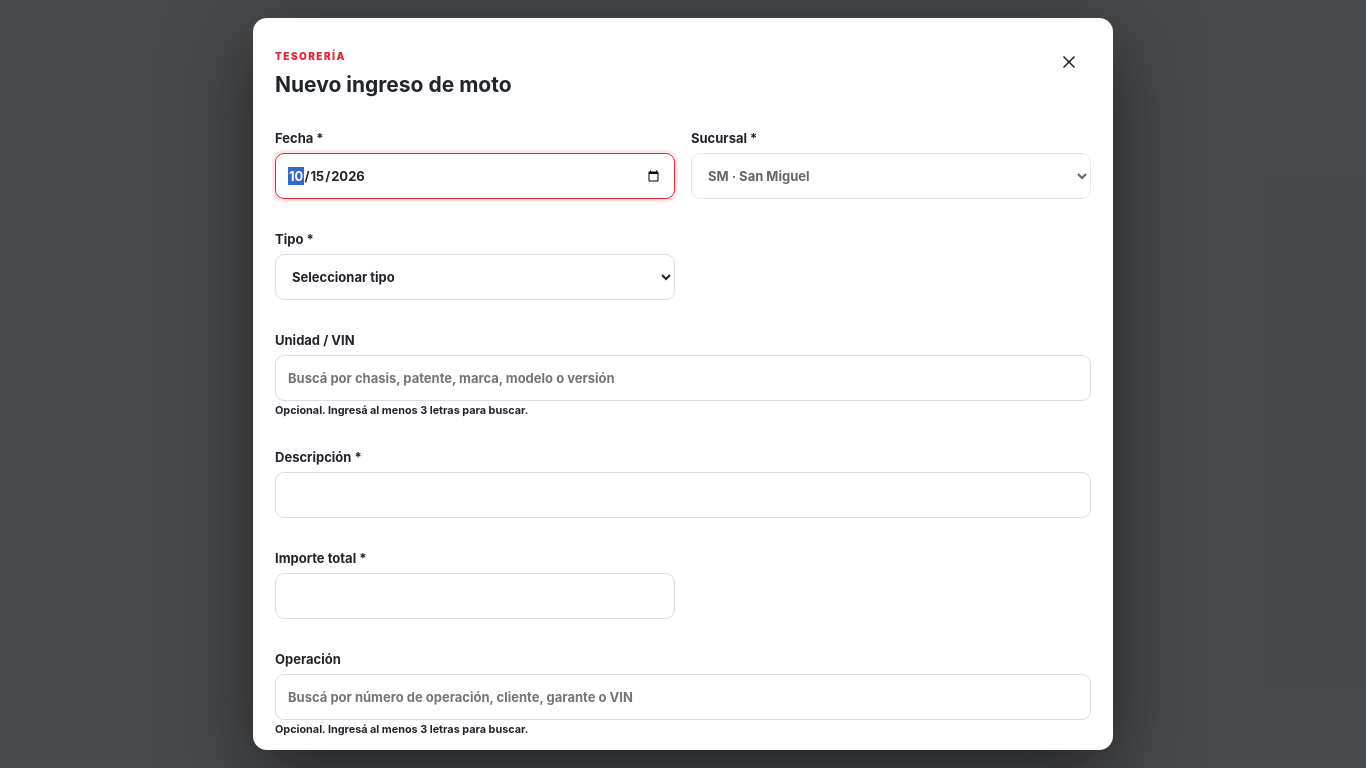
Test case: Alta de ingreso con medio, cobrador y rendición › en dólares sin cuentas en dólares explica qué falta
Select "Seña" in the dropdown labelled "Tipo *" at (475, 277), box [275, 254, 675, 300]
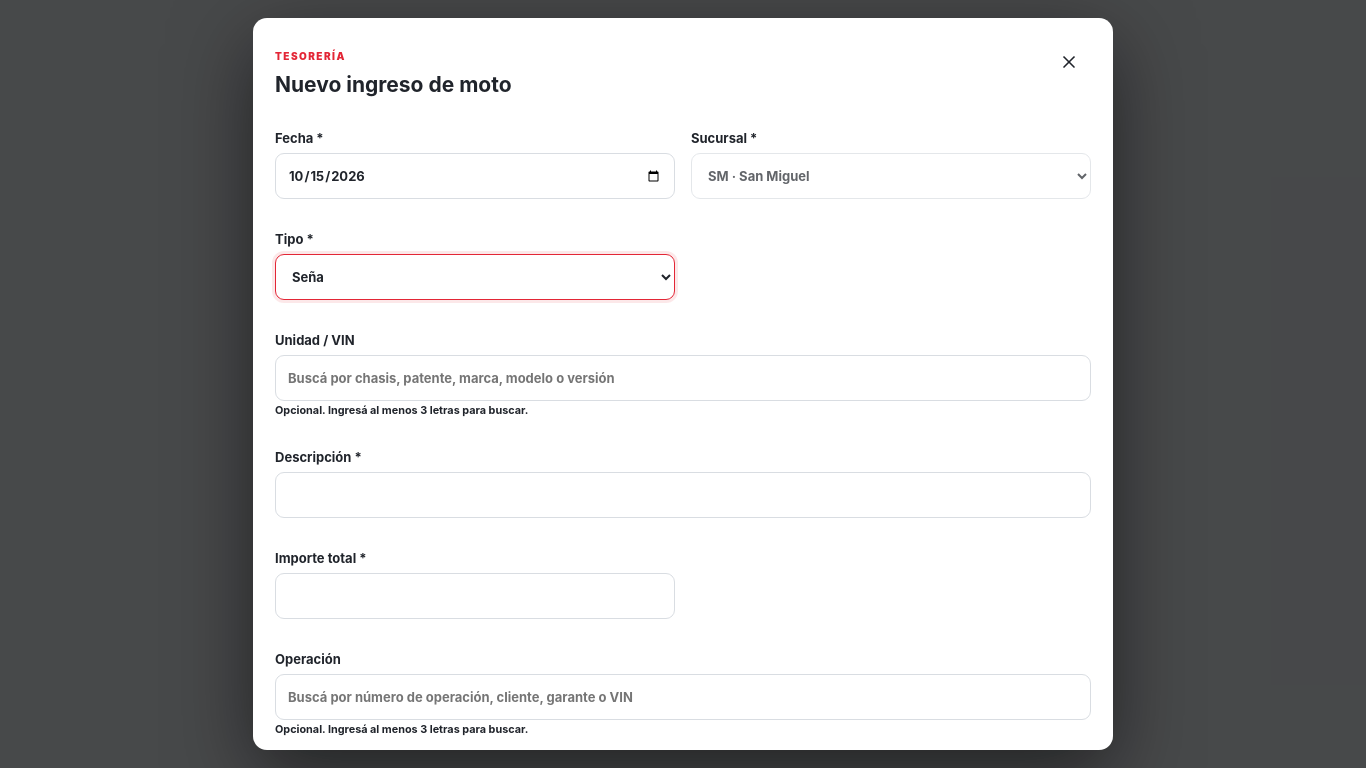
Type "Seña moto" into the field labelled "Descripción *" at (683, 495), box [275, 472, 1091, 518]
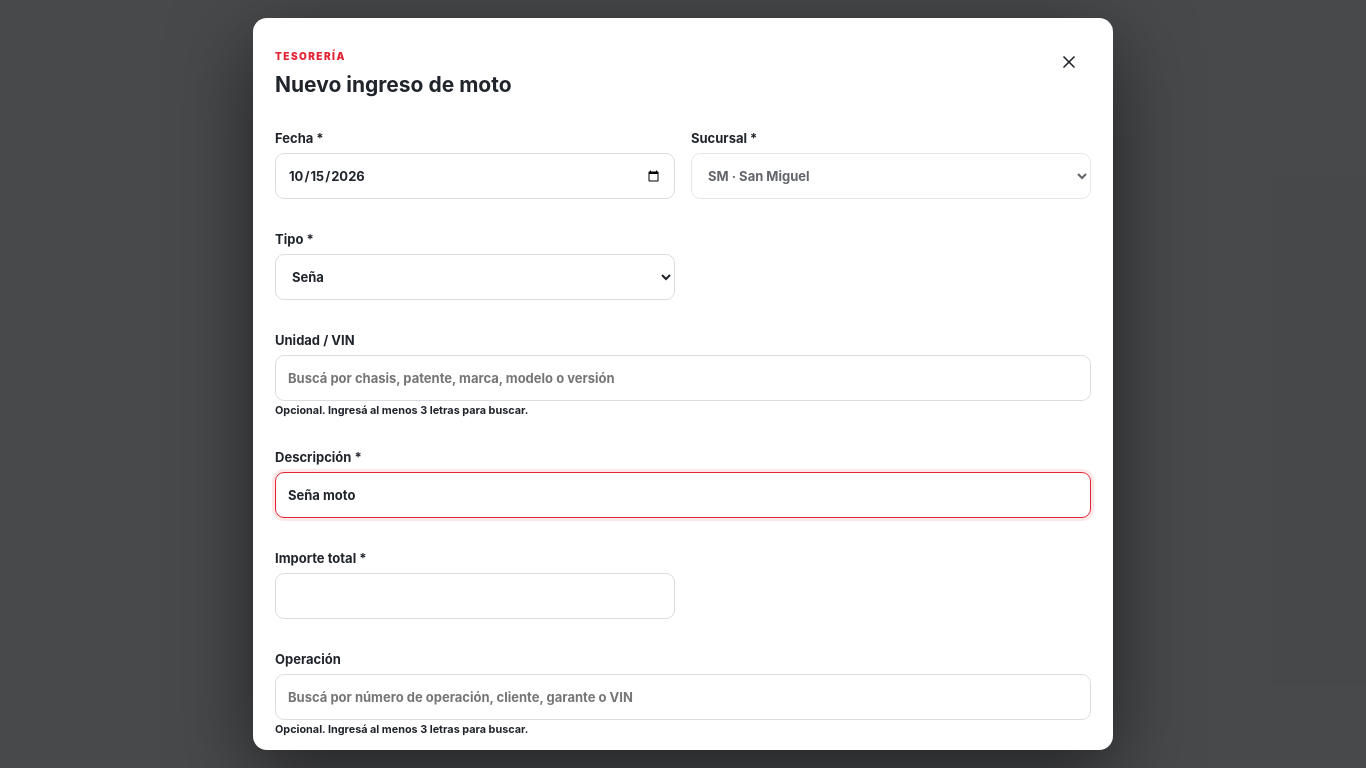
Type "150000" into the number field labelled "Importe total *" at (475, 596), box [275, 573, 675, 619]
(page scrolled)
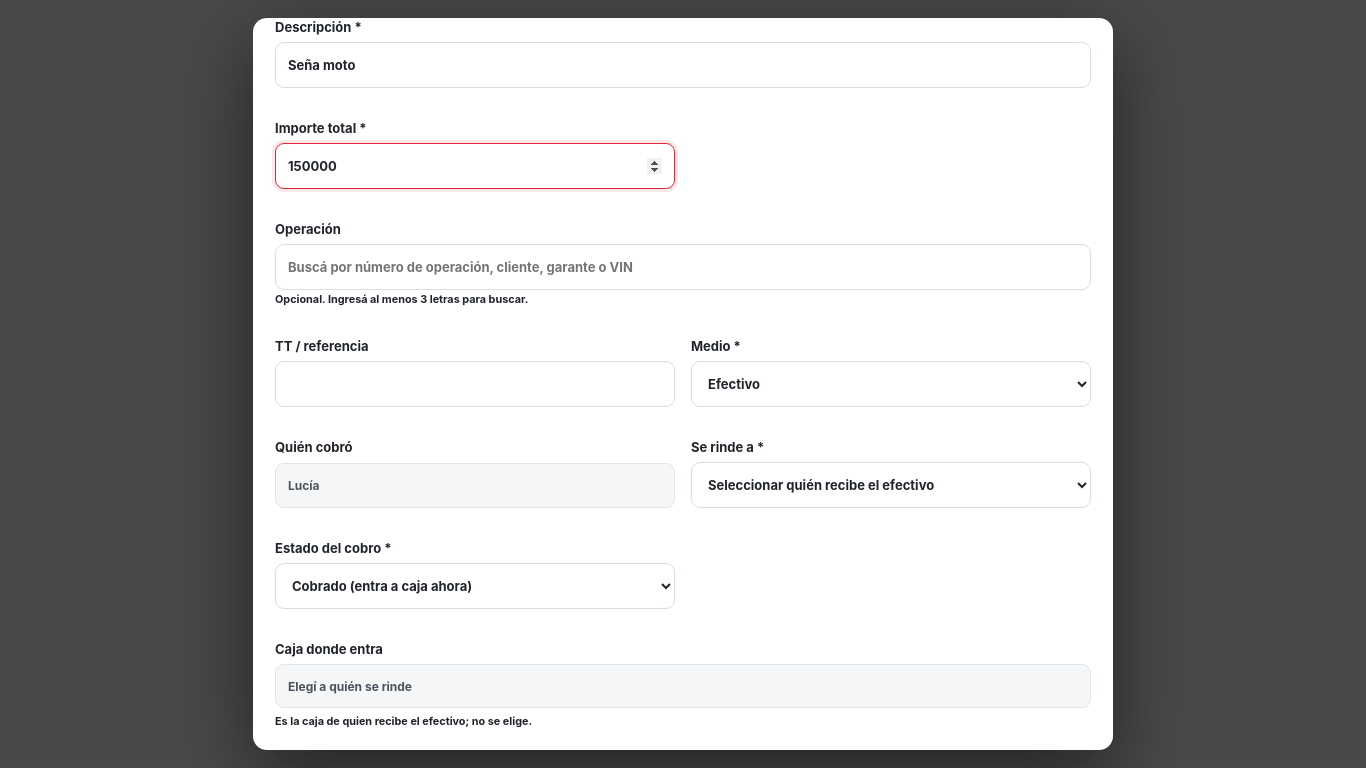
Select "Transferencia" in the dropdown labelled "Medio *" at (891, 384), box [691, 361, 1091, 407]
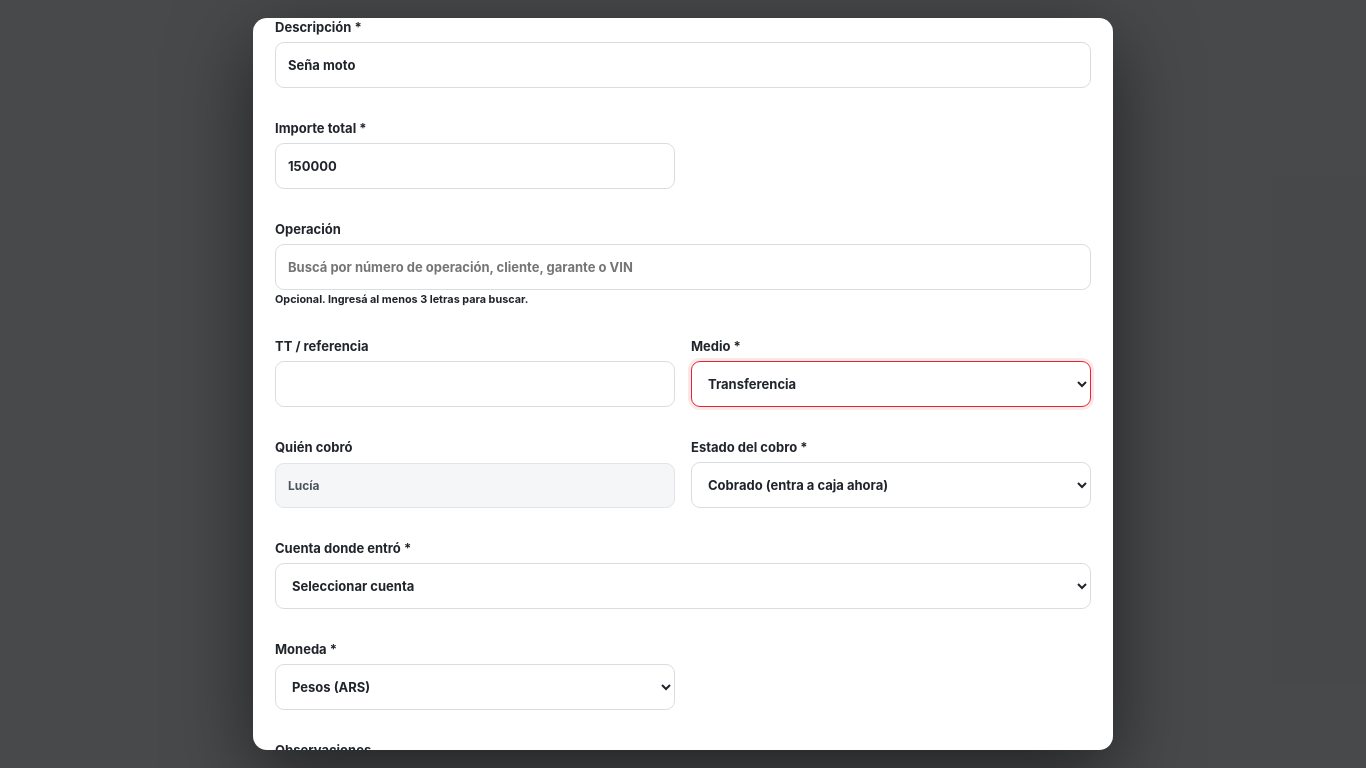
Select "Dólares (USD)" in the dropdown labelled "Moneda *" at (475, 687), box [275, 664, 675, 710]
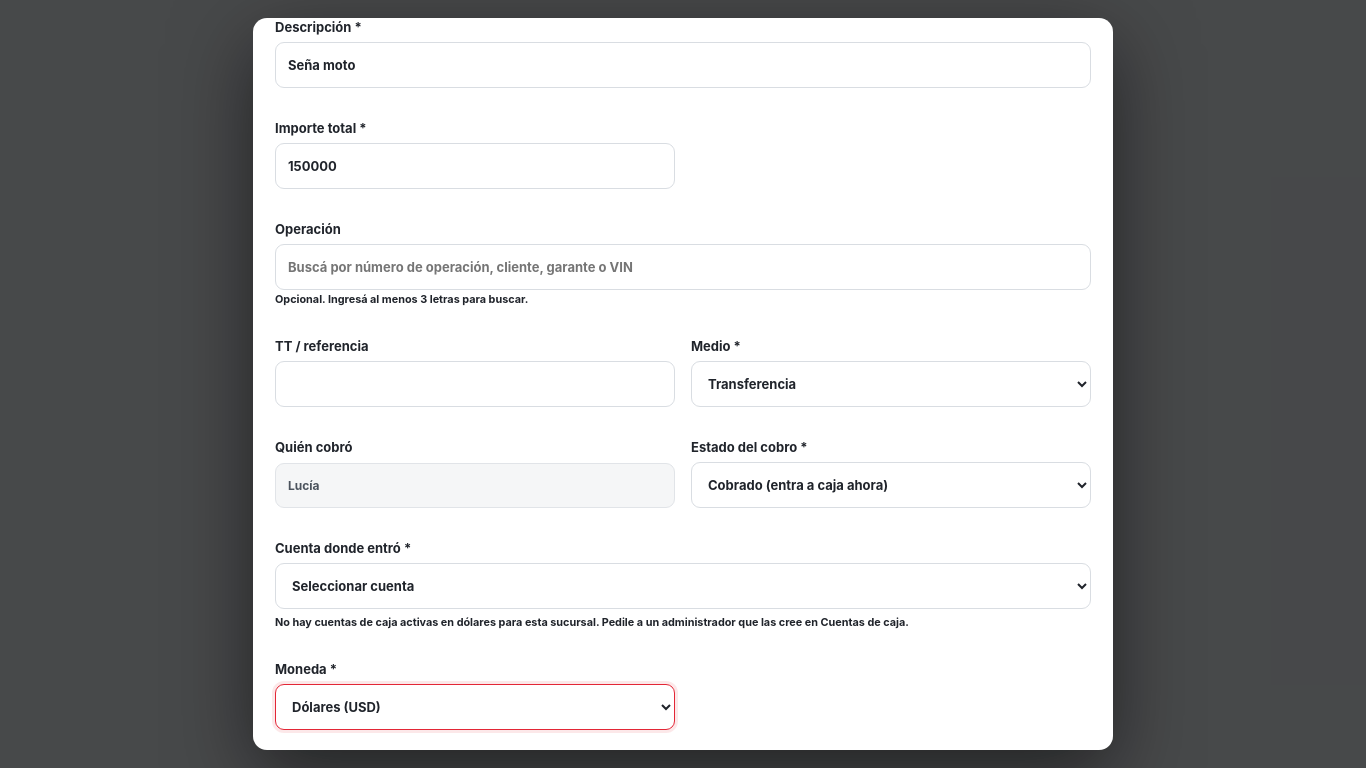
Now the text "No hay cuentas de caja activas en dólares" is shown, box [275, 616, 909, 629]
